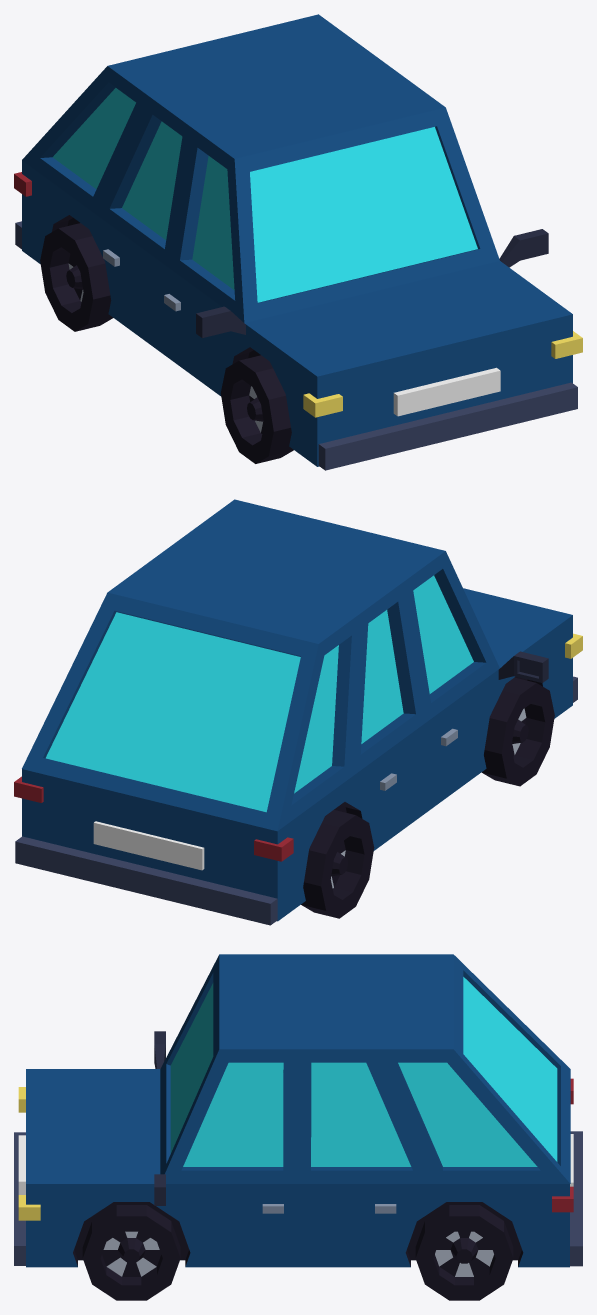
The model's file is car4.fbx.
The picture shows the model from 3 angles, top to bottom: view 1: azimuth 30°, elevation 25°; view 2: azimuth 150°, elevation 25°; view 3: azimuth 270°, elevation 25°; orthographic projection. The views are drawn at different scales.
Parts seen in each view (by area): view 1: Car-blue; view 2: Car-blue; view 3: Car-blue.
Boxes of the visible parts, x1,y1,x2,y2 form: Car-blue: (14, 14, 582, 470); Car-blue: (14, 499, 582, 925); Car-blue: (14, 954, 582, 1300).
Size of the model in its own units: 2.71 by 1.91 by 4.18.
